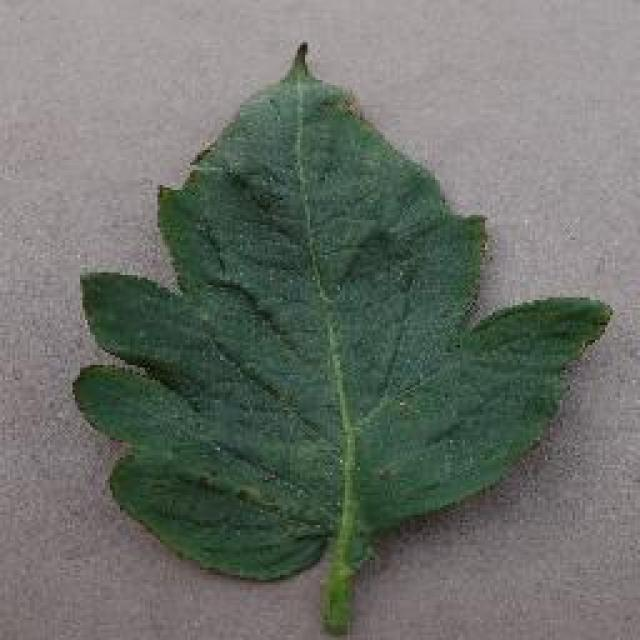Tomato___Bacterial_spot: (70, 38, 618, 632)
